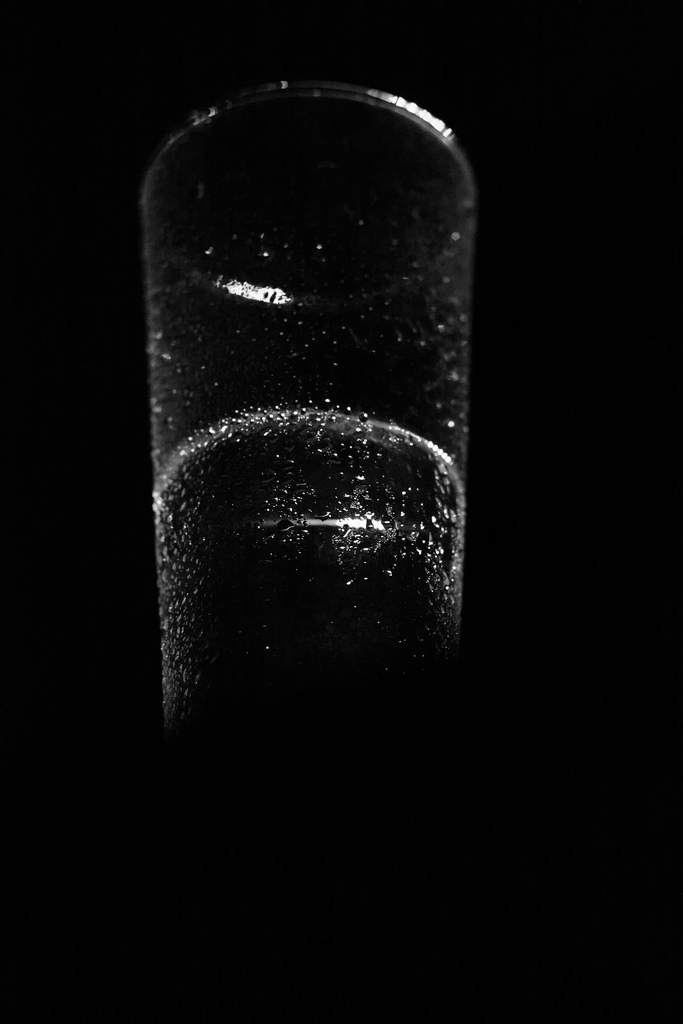glass of water: (144, 121, 475, 716)
